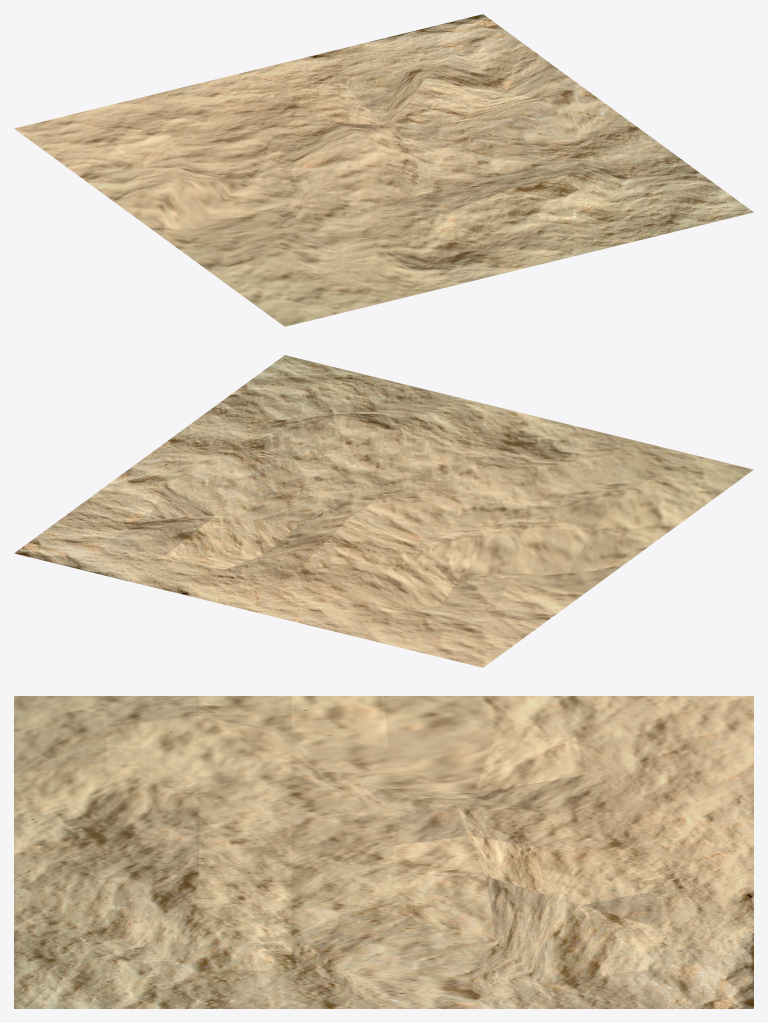
File: MONTANHA_CENTRO.glb
3 views of the same model, one above another, from view 1: azimuth 30°, elevation 25°; view 2: azimuth 150°, elevation 25°; view 3: azimuth 270°, elevation 25° (orthographic). The views are drawn at different scales.
Parts seen in each view (by area): view 1: MONTANHA_CENTRO_Plano; view 2: MONTANHA_CENTRO_Plano; view 3: MONTANHA_CENTRO_Plano.
Boxes of the visible parts, left/top/right/bottom form: MONTANHA_CENTRO_Plano: left=14, top=14, right=753, bottom=326; MONTANHA_CENTRO_Plano: left=14, top=355, right=753, bottom=667; MONTANHA_CENTRO_Plano: left=14, top=696, right=753, bottom=1008.
Size of the model in its own units: 2 by 0.1296 by 2.
Materials: 1 (1 with a texture image).
